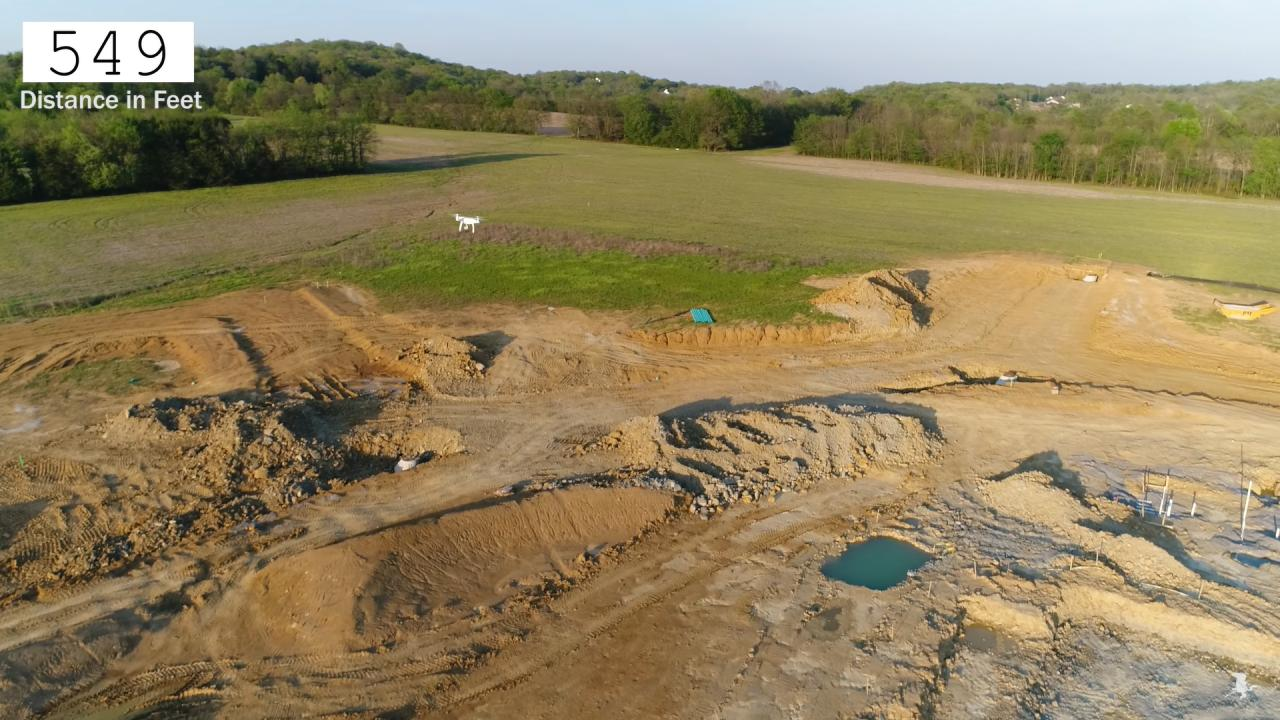Drone: (445, 205, 490, 241)
